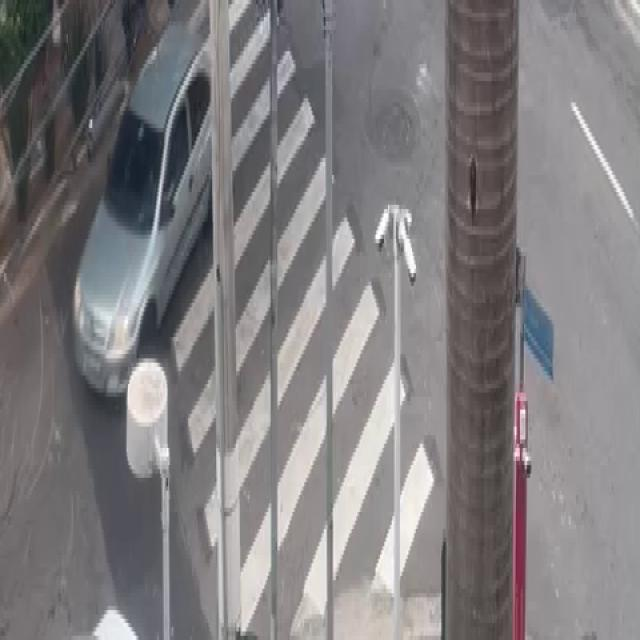car: (51, 3, 244, 436)
